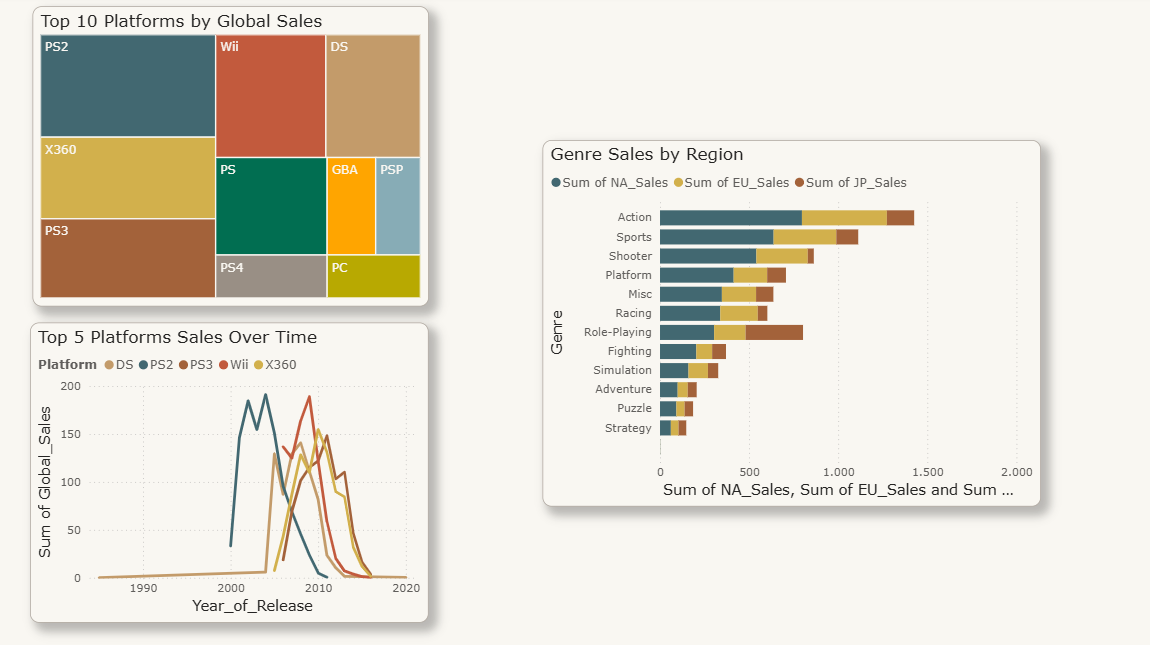

The dashboard page shown, as its layout file describes it:
{"tool":"powerbi","page":{"name":"🕹️ Platform & Genre Analysis","canvas":[1280,720],"ordinal":2},"visuals":[{"type":"treemap","title":"Top 10 Platforms by Global Sales","fields":{"Group":["Video_Games_Sales_as_at_22_Dec_2016.Platform"],"Values":["Sum(Video_Games_Sales_as_at_22_Dec_2016.Global_Sales)"]},"box":[81,13.7,435,329.3],"z":0},{"type":"barChart","title":"Genre Sales by Region","fields":{"Category":["Video_Games_Sales_as_at_22_Dec_2016.Genre"],"Y":["Sum(Video_Games_Sales_as_at_22_Dec_2016.NA_Sales)","Sum(Video_Games_Sales_as_at_22_Dec_2016.EU_Sales)","Sum(Video_Games_Sales_as_at_22_Dec_2016.JP_Sales)"]},"box":[665.5,142.7,547.5,402.1],"z":1000},{"type":"lineChart","title":"Top 5 Platforms Sales Over Time","fields":{"Category":["Video_Games_Sales_as_at_22_Dec_2016.Year_of_Release"],"Y":["Sum(Video_Games_Sales_as_at_22_Dec_2016.Global_Sales)"],"Series":["Video_Games_Sales_as_at_22_Dec_2016.Platform"]},"box":[81,360.9,437.7,329.3],"z":2000}]}

Visuals, with their boxes in screenshot pixels (x1, y1, x2, y2), scaled from the page's 1280x720 canvas onto the 1150x645 screenshot:
"Top 10 Platforms by Global Sales" treemap: bbox=[73, 12, 464, 307]
"Genre Sales by Region" barChart: bbox=[598, 128, 1090, 488]
"Top 5 Platforms Sales Over Time" lineChart: bbox=[73, 323, 466, 618]
